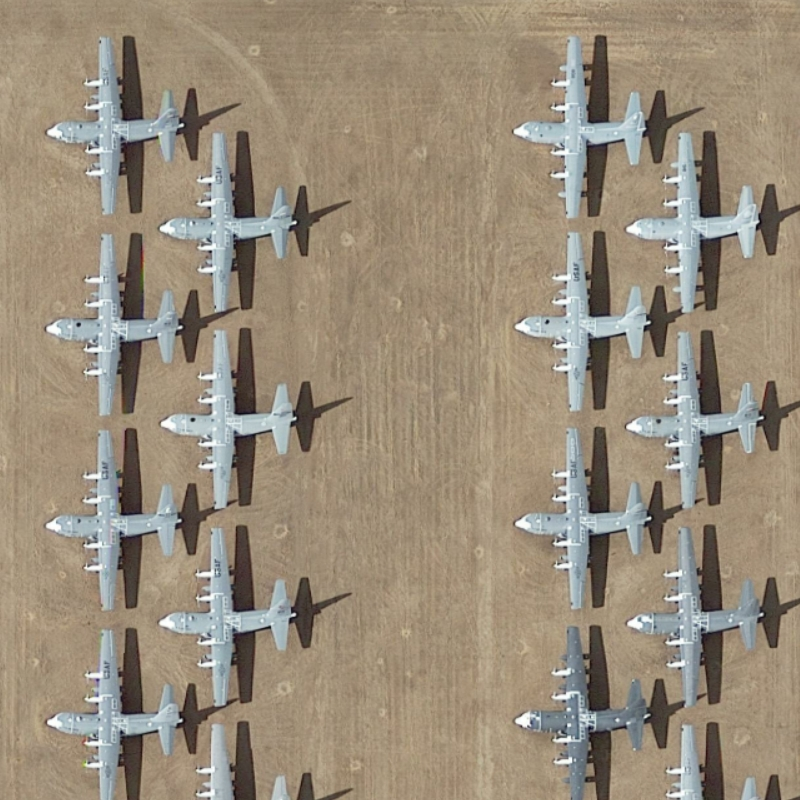A2: (40, 28, 196, 220), (157, 326, 311, 516), (506, 29, 651, 226), (43, 229, 189, 422), (154, 132, 306, 317), (621, 125, 767, 317), (504, 223, 650, 414), (507, 618, 659, 800), (511, 423, 656, 613), (160, 526, 306, 710), (624, 522, 766, 710), (37, 626, 185, 800), (45, 428, 183, 612), (626, 330, 766, 510)
